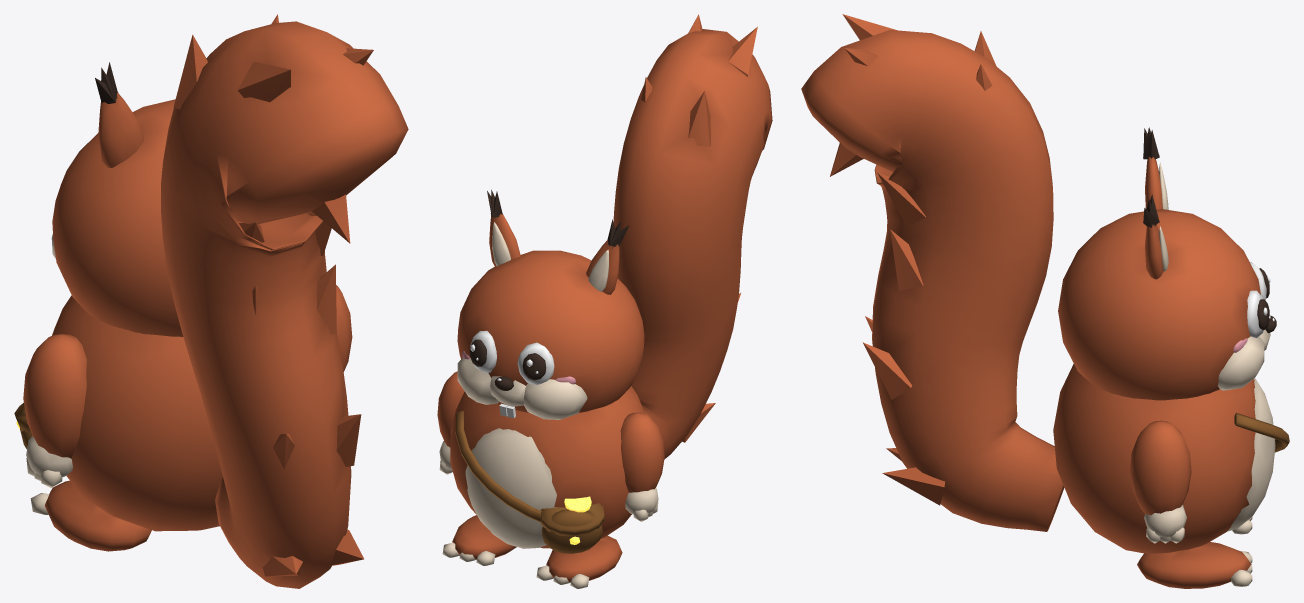
Rendered from zippy.glb.
3 views of the same model, side by side, from view 1: azimuth 30°, elevation 25°; view 2: azimuth 150°, elevation 25°; view 3: azimuth 270°, elevation 25° (orthographic). The views are drawn at different scales.
Parts seen in each view (by area): view 1: body__c_c8643b, head__c_c8643b, armR__c_c8643b, armR__c_fbe8cf, armL__c_c8643b, head__c_3a2a22; view 2: body__c_c8643b, head__c_c8643b, body__c_fbe8cf, head__c_fbe8cf, body__c_8a5a2b, armR__c_c8643b, head__c_3a2a22, head__c_ffffff, armL__c_c8643b, armR__c_fbe8cf, body__glow_f2c94c; view 3: body__c_c8643b, head__c_c8643b, armL__c_c8643b, body__c_fbe8cf, head__c_fbe8cf, head__c_3a2a22, armL__c_fbe8cf, head__c_ffffff, body__c_8a5a2b.
Boxes of the visible parts, x1,y1,x2,y2 form: body__c_c8643b: (44,14,408,588); head__c_c8643b: (52,93,183,336); armR__c_c8643b: (23,334,86,458); armR__c_fbe8cf: (26,436,72,487); armL__c_c8643b: (336,285,352,371); head__c_3a2a22: (95,62,118,103); body__c_c8643b: (450,14,772,581); head__c_c8643b: (457,214,644,412); body__c_fbe8cf: (442,428,589,588); head__c_fbe8cf: (457,222,608,419); body__c_8a5a2b: (455,411,604,553); armR__c_c8643b: (620,412,664,492); head__c_3a2a22: (469,189,629,390); head__c_ffffff: (470,330,554,418); armL__c_c8643b: (437,371,464,447); armR__c_fbe8cf: (625,488,658,521); body__glow_f2c94c: (564,496,591,544); body__c_c8643b: (801,14,1255,588); head__c_c8643b: (1058,157,1260,400); armL__c_c8643b: (1130,420,1191,515); body__c_fbe8cf: (1227,378,1275,586); head__c_fbe8cf: (1159,162,1270,390); head__c_3a2a22: (1143,127,1276,333); armL__c_fbe8cf: (1144,504,1186,543); head__c_ffffff: (1247,262,1274,368); body__c_8a5a2b: (1234,412,1289,452).
Bounding box in the file's own units: 1.22 × 2.33 × 2.04.
